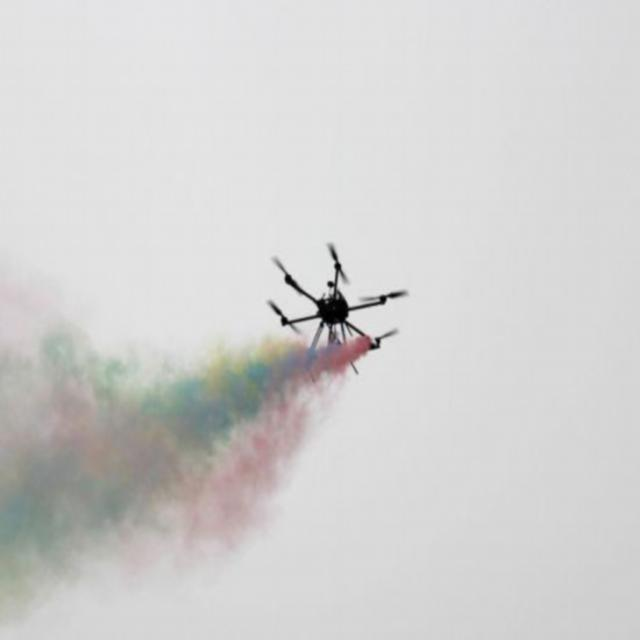UAV: (264, 239, 410, 379)
